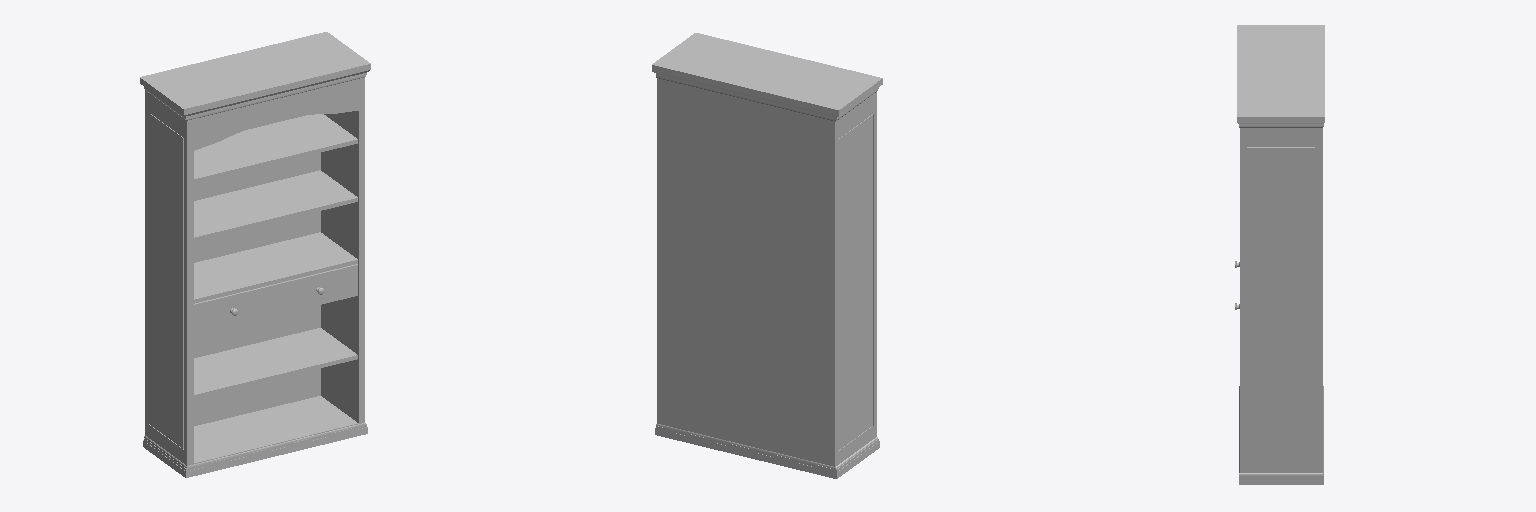
The model's file is kids_shelves.obj.
3 views of the same model, side by side, from view 1: azimuth 30°, elevation 25°; view 2: azimuth 150°, elevation 25°; view 3: azimuth 270°, elevation 25° (orthographic).
Visible parts, largest first — view 1: Shelves_Cube.001; view 2: Shelves_Cube.001; view 3: Shelves_Cube.001.
Boxes of the visible parts, x1=… form: Shelves_Cube.001: x1=140, y1=32, x2=370, y2=477; Shelves_Cube.001: x1=652, y1=33, x2=882, y2=478; Shelves_Cube.001: x1=1237, y1=25, x2=1324, y2=484.
Bounding box in the file's own units: 10.11 × 19.07 × 4.24.